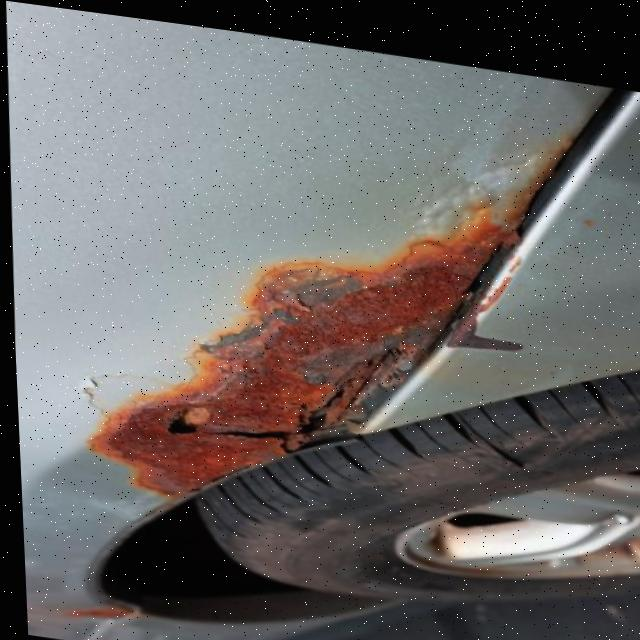corrosion: (84, 192, 515, 491), (442, 276, 519, 334), (56, 601, 127, 616)
